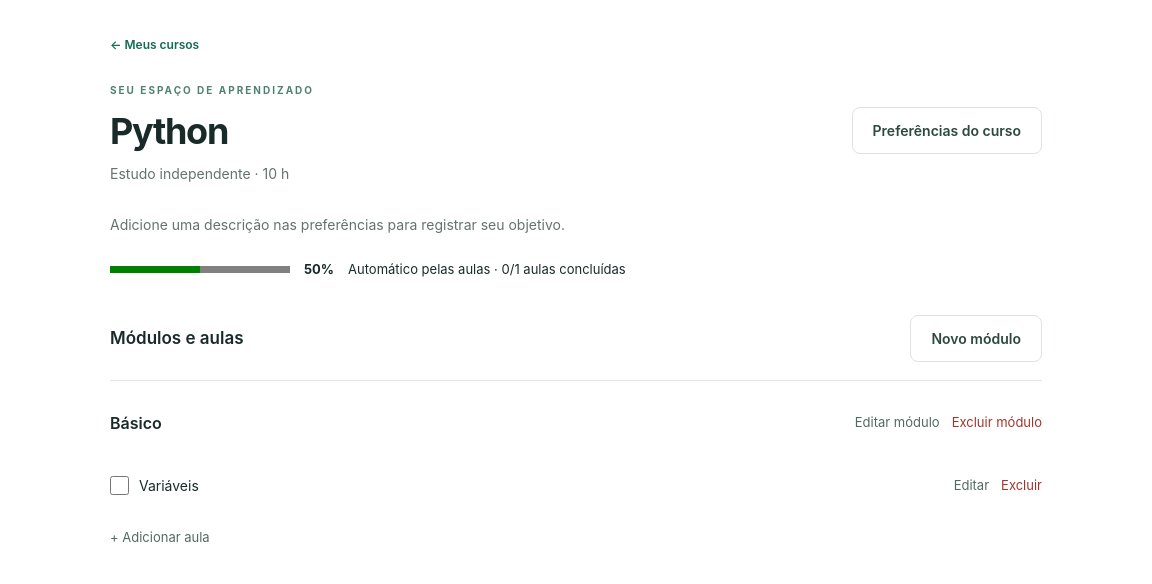
saves automatic mode separately from the retained manual percentage
Expected: the heading "Python" is shown, top-left (110, 109), bottom-right (228, 153)
Click the button "Preferências do curso".
click(947, 131)  # box top-left (852, 107), bottom-right (1042, 154)
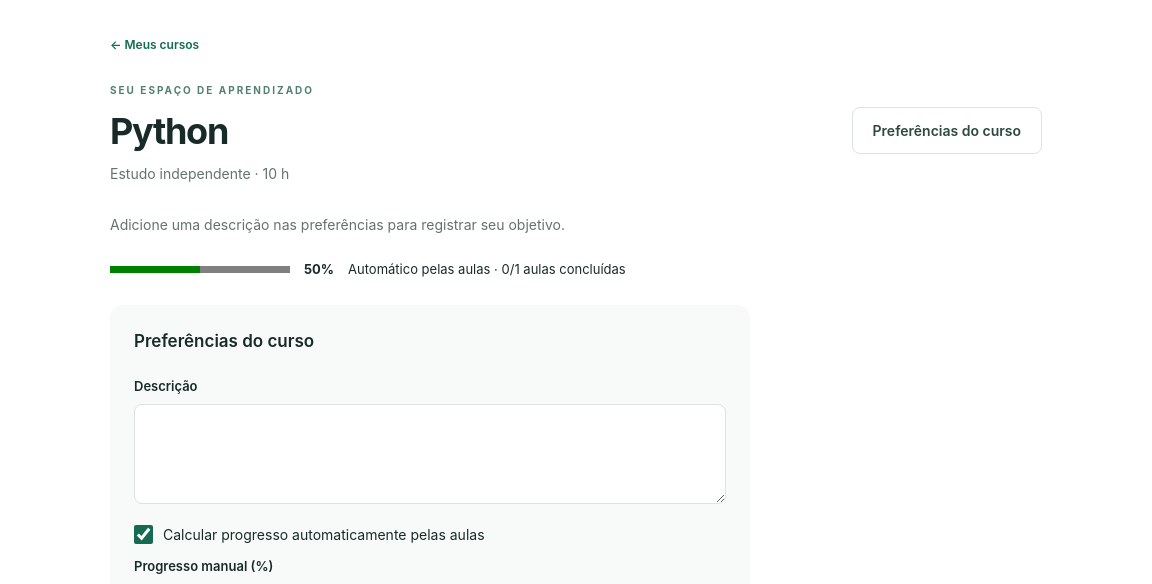
Click the checkbox labelled "Calcular progresso automaticamente pelas aulas".
click(144, 535)  # box top-left (134, 526), bottom-right (153, 544)
(page scrolled)
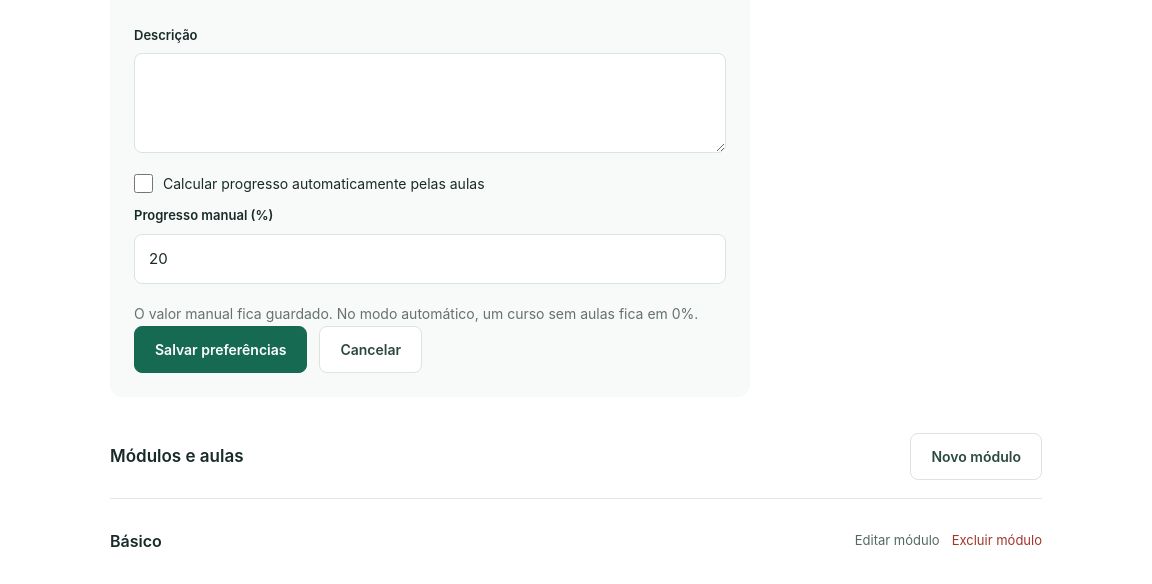
Click the button "Salvar preferências".
click(221, 349)  # box top-left (134, 326), bottom-right (308, 373)
(page scrolled)
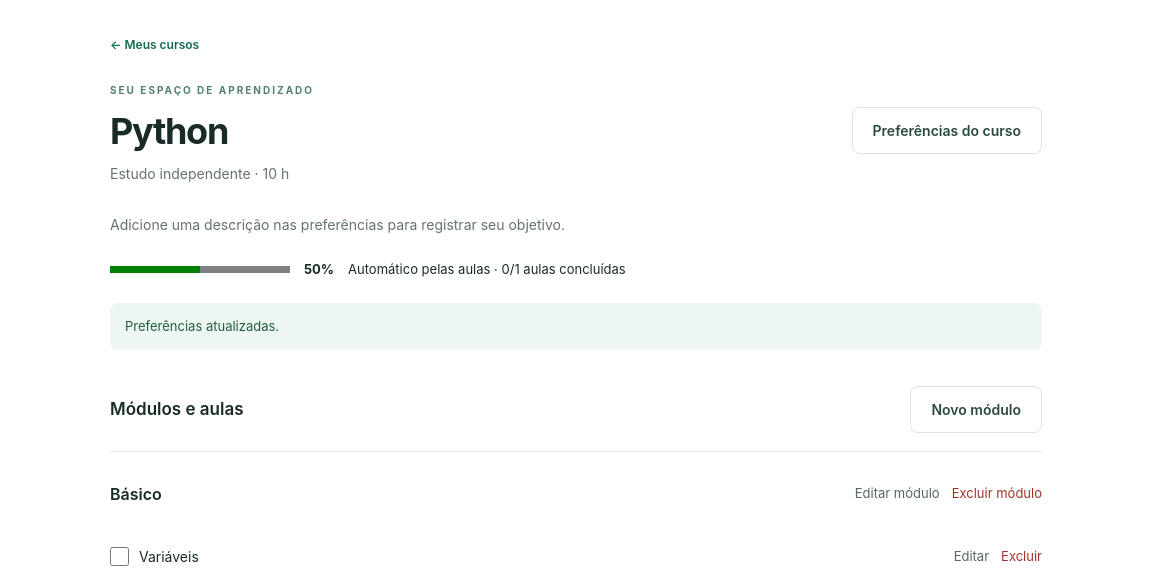
Now the text "Preferências atualizadas." is shown, box top-left (110, 304), bottom-right (1042, 350)
